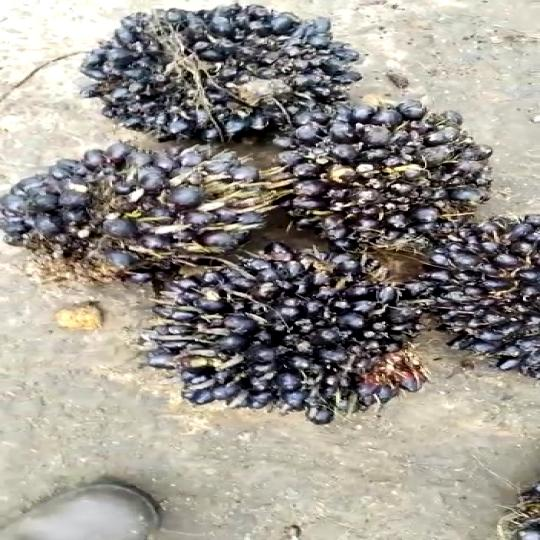mentah: (142, 239, 415, 426), (77, 0, 394, 139), (0, 131, 285, 277), (260, 106, 477, 246)
